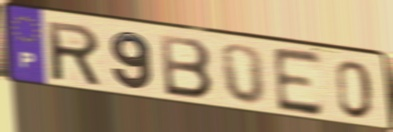0: (219, 42, 268, 108), (334, 59, 374, 120)
9: (107, 29, 156, 93)
B: (157, 32, 215, 102)
E: (270, 45, 326, 119)
R: (44, 19, 105, 89)
